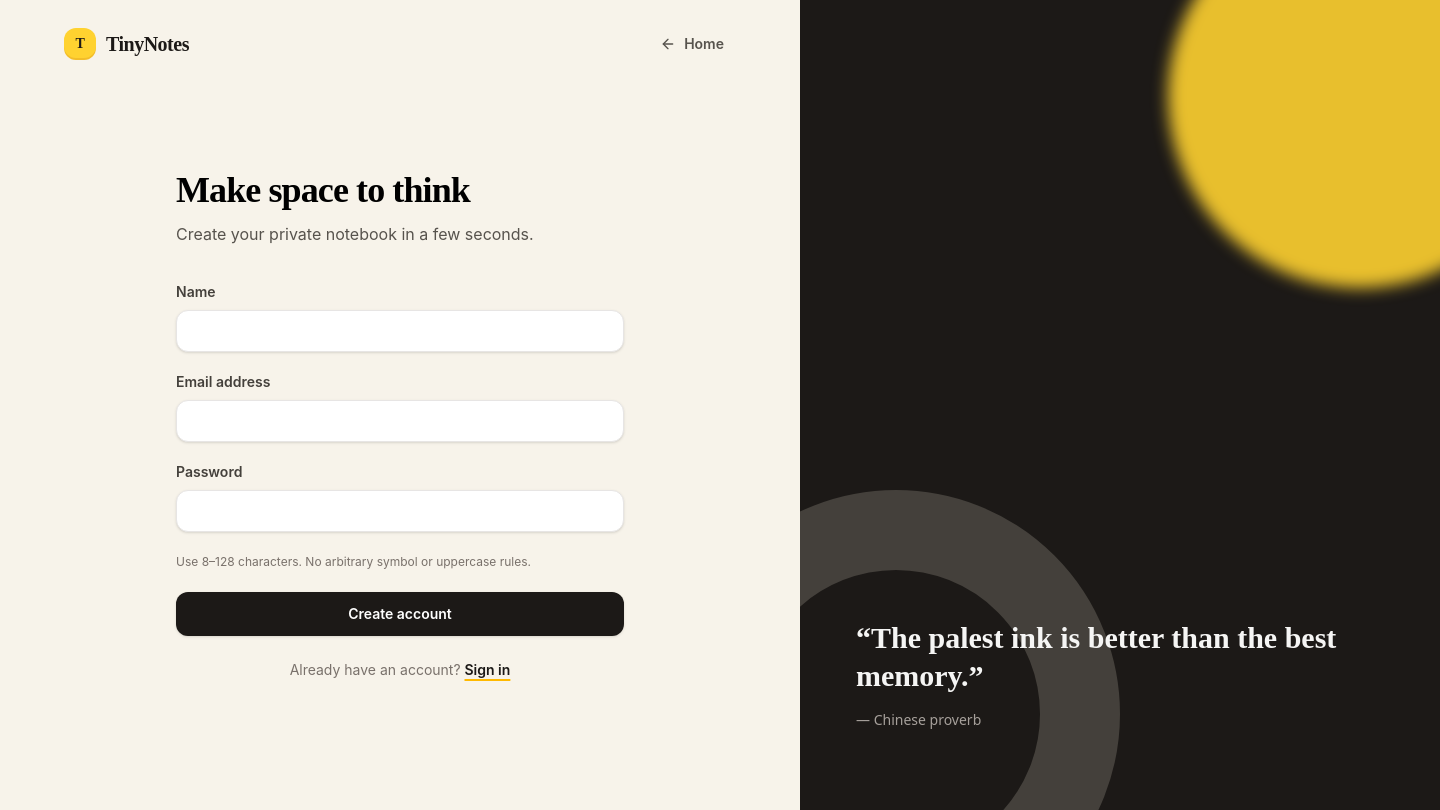
Test case: SignUpPage › reports an unavailable API or database without blaming the email address
The image size is (1440, 810).
Type "Reader" into the field labelled "Name".
click(400, 331); type("Reader")  # box [176,310,624,352]
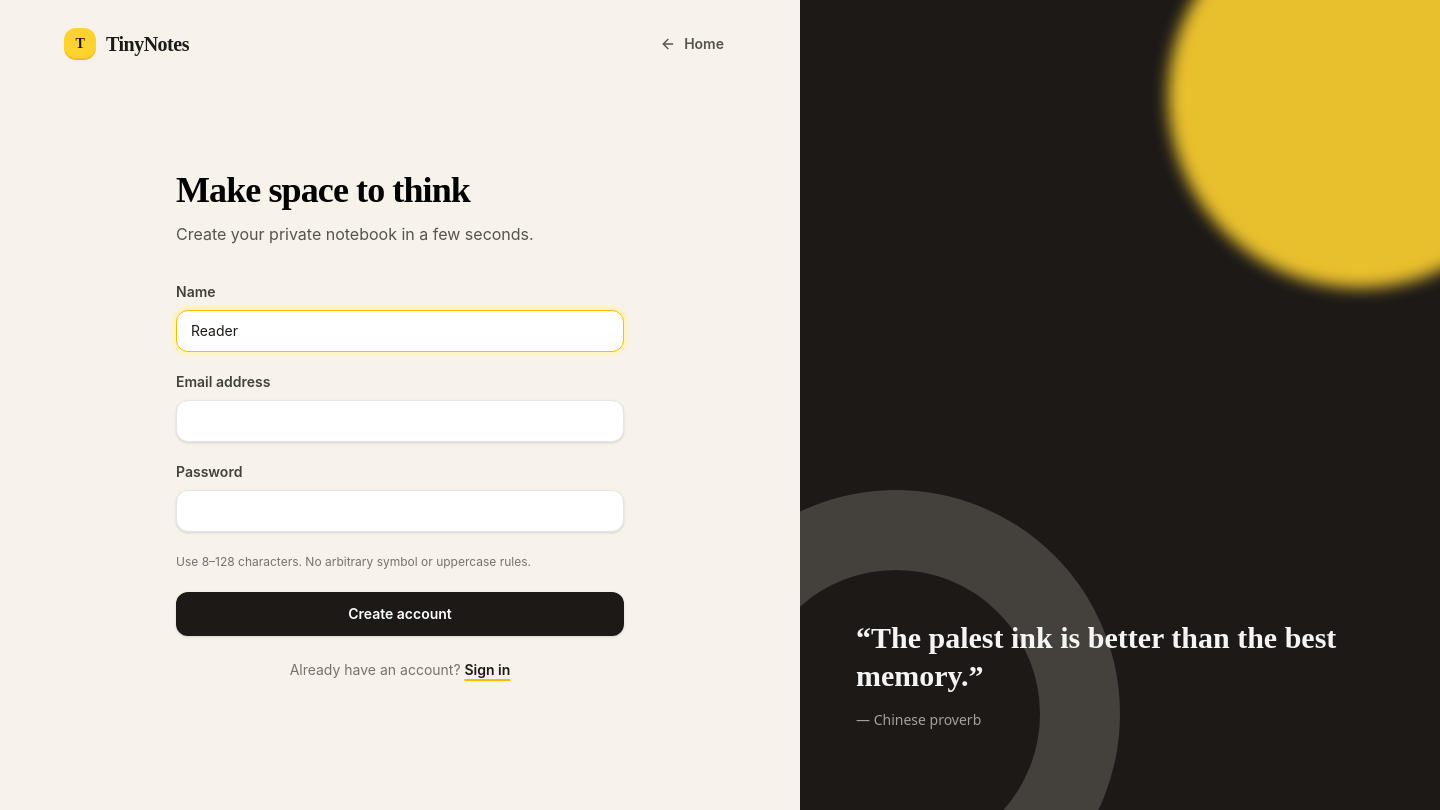
Type "reader@example.com" into the field labelled "Email address".
click(400, 421); type("reader@example.com")  # box [176,400,624,442]
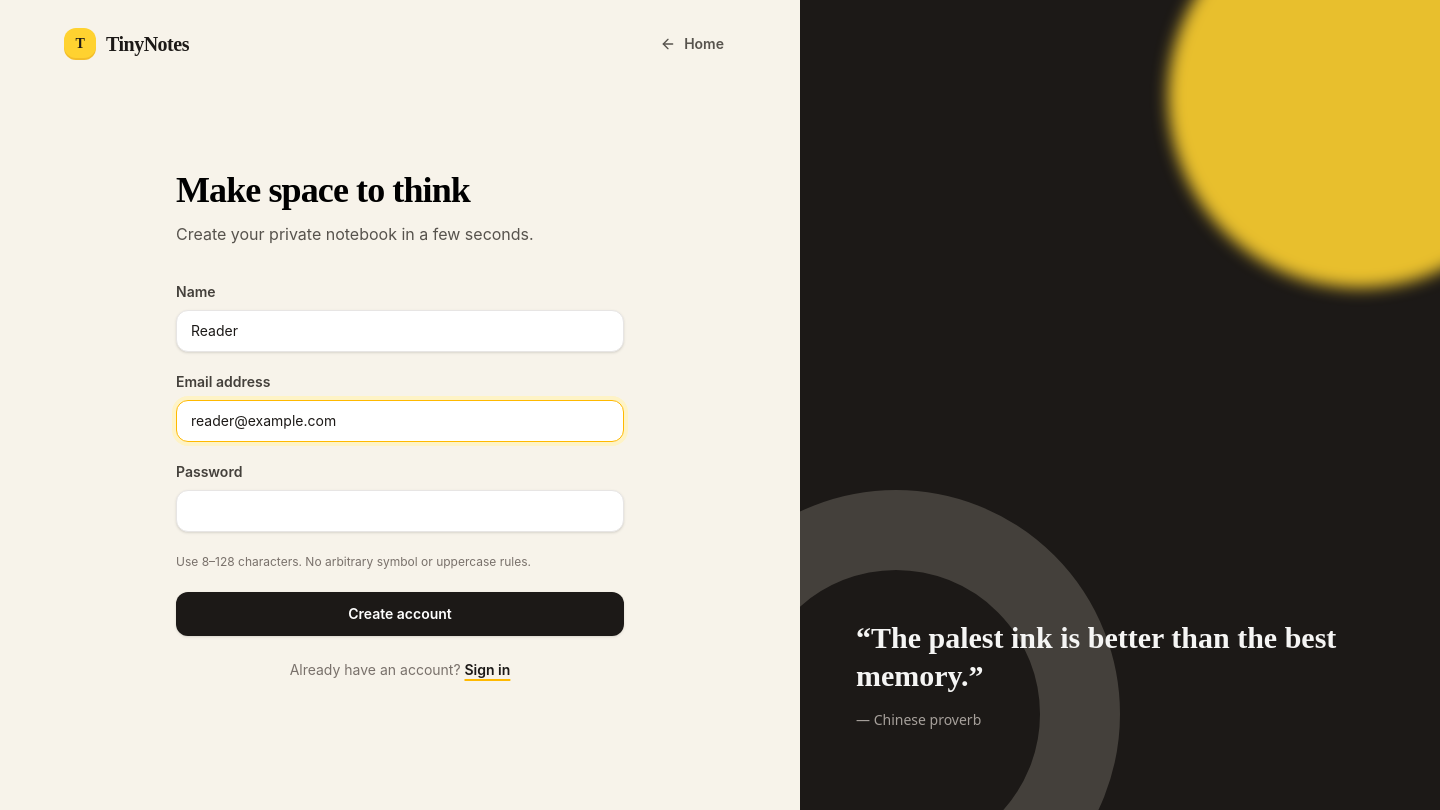
Type "correct-length" into the password field labelled "Password".
click(400, 511); type("correct-length")  # box [176,490,624,532]
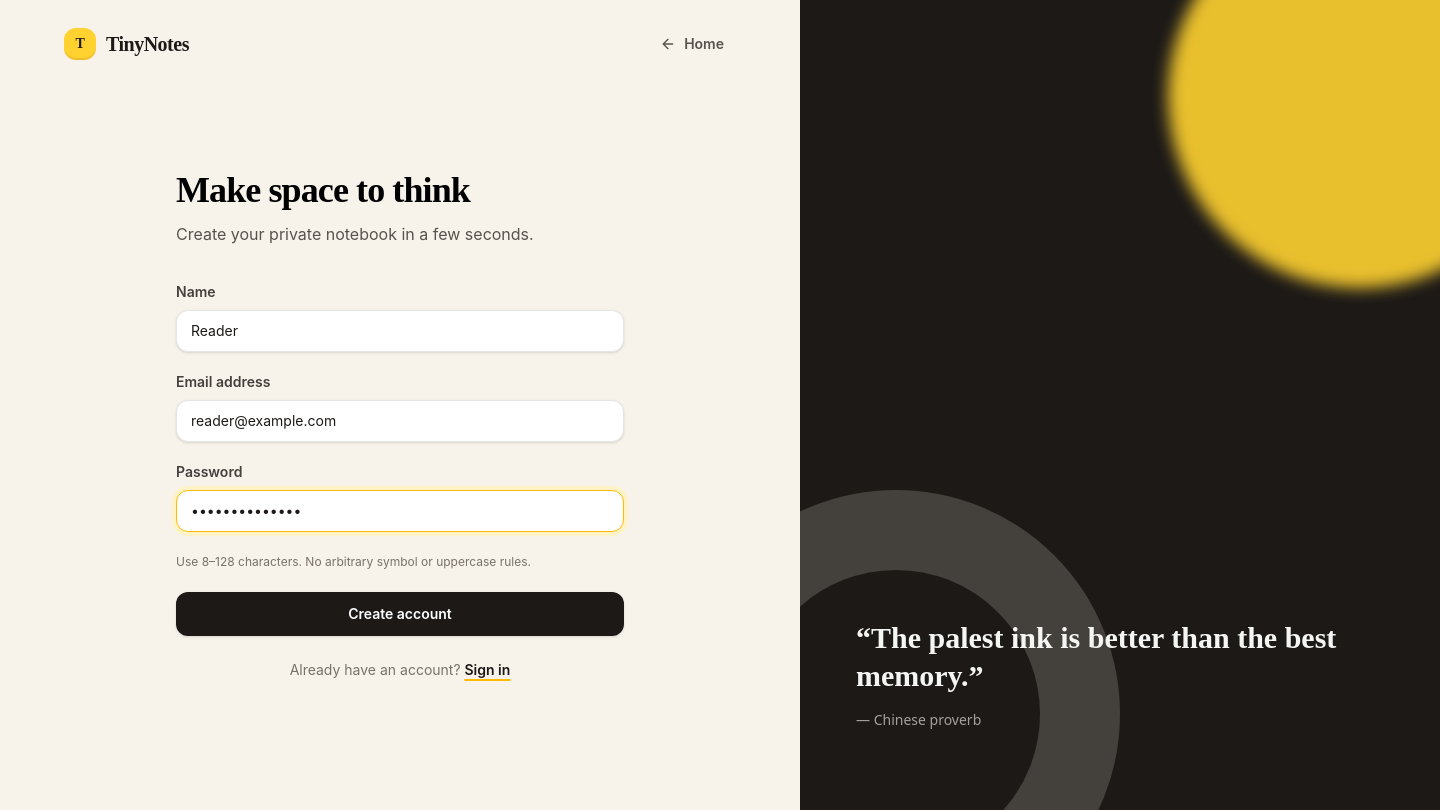
Click the button "Create account".
click(400, 614)  # box [176,592,624,636]
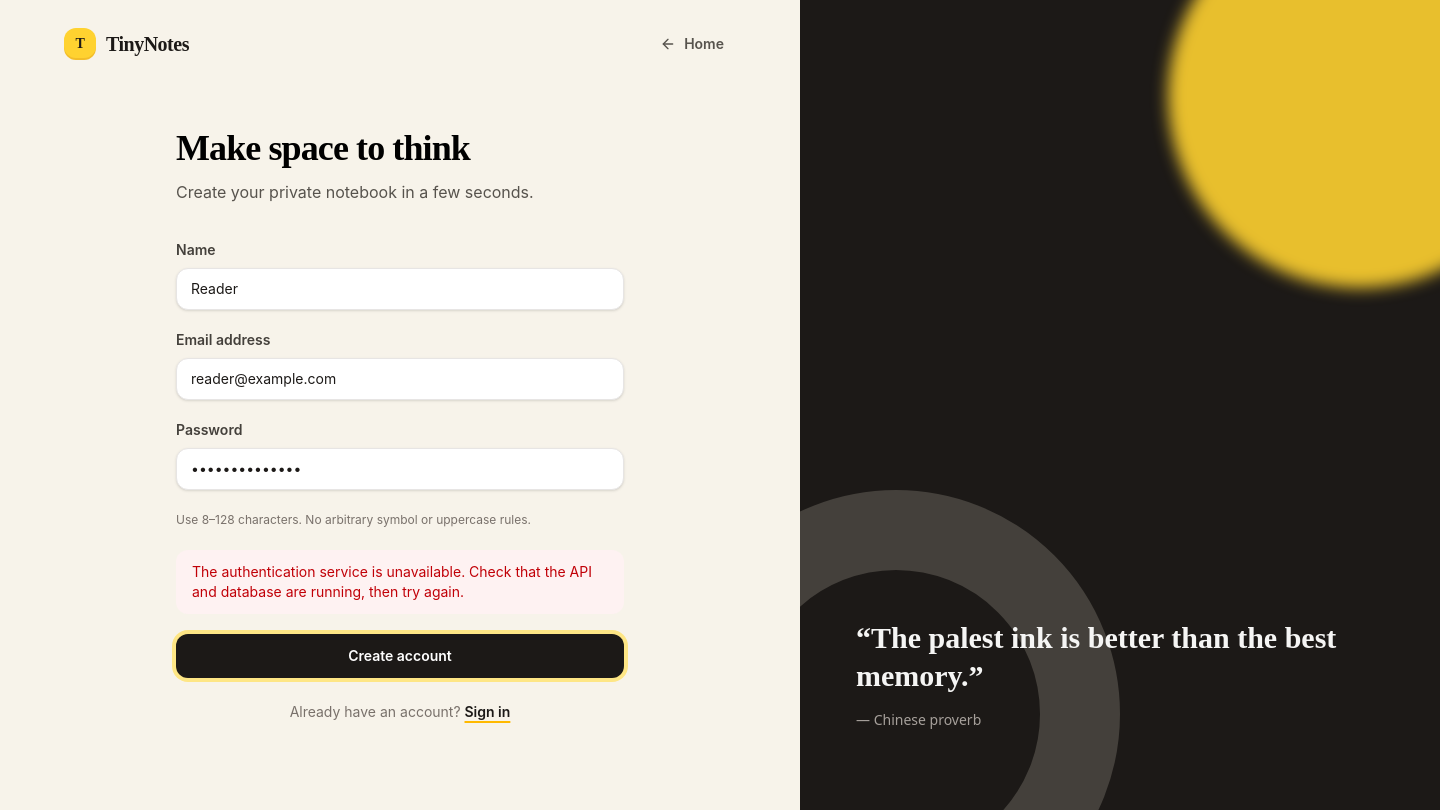
Expected: the message shows "The authentication service is unavailable.", [192,563,592,600]
